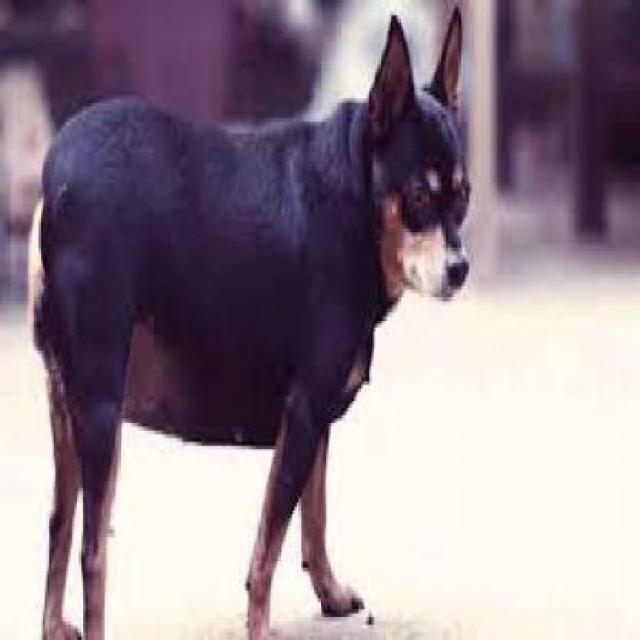Dog: (23, 8, 474, 635)
